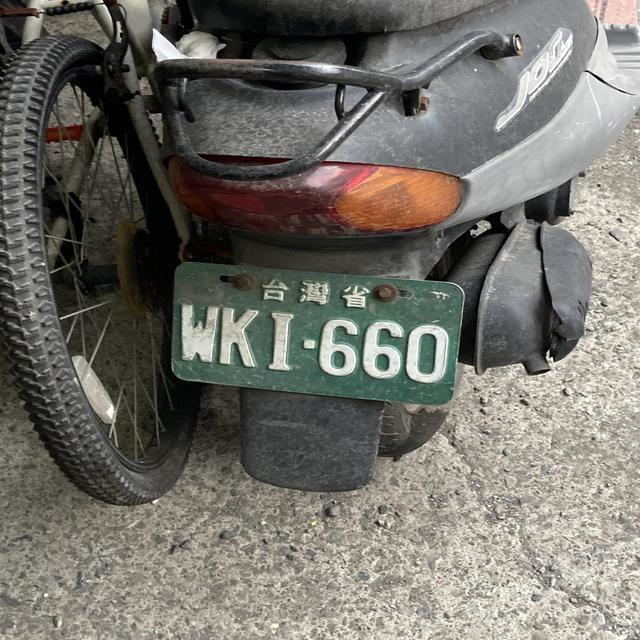license: (173, 295, 455, 392)
